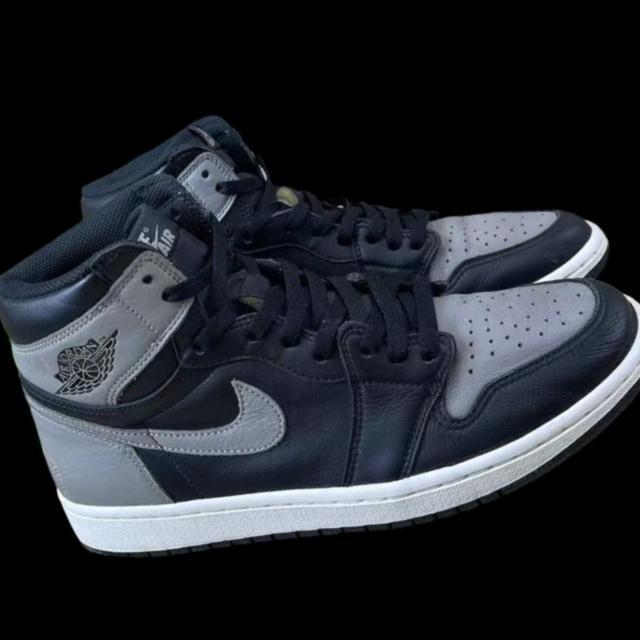nike original jordan 1: (0, 20, 640, 640), (65, 0, 627, 459)
